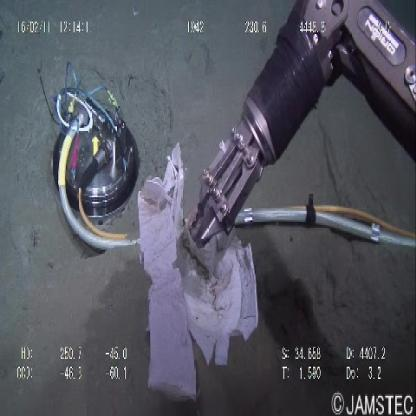Rov: (185, 3, 416, 253), (35, 51, 140, 256)
Rác: (134, 139, 263, 405)
